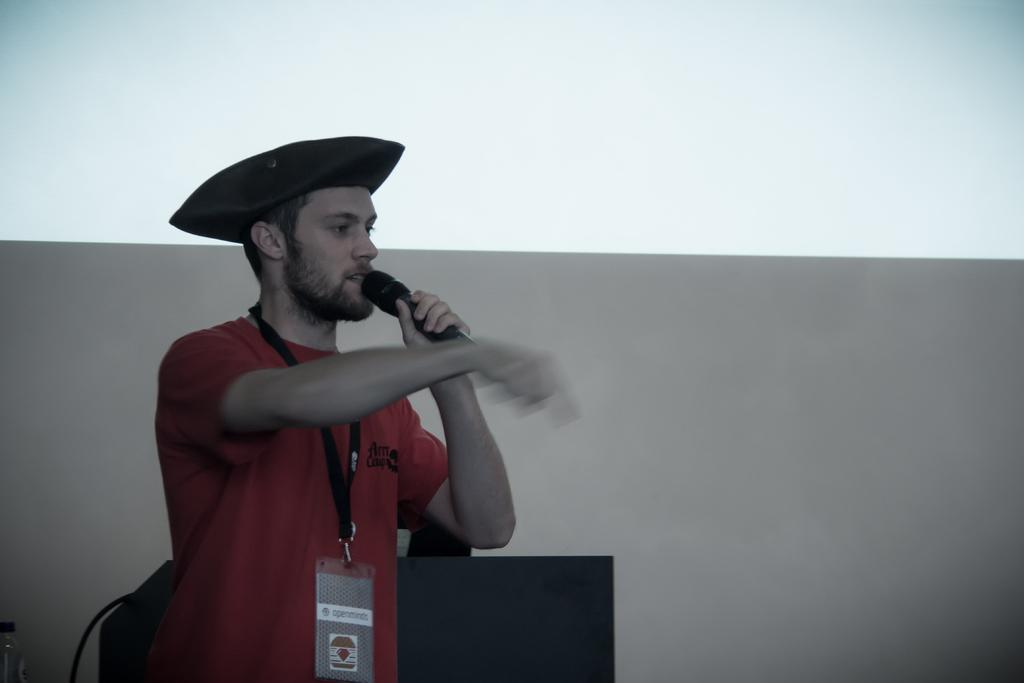Hat: (166, 135, 402, 245)
